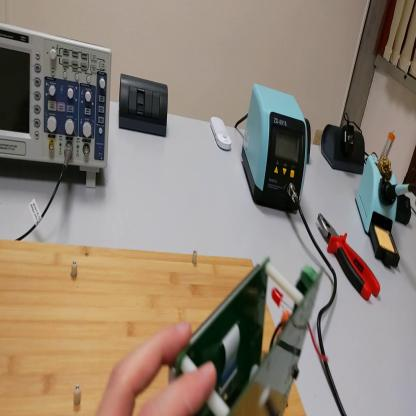electric screwdriver battery: (396, 191, 412, 224)
hand: (95, 320, 217, 416)
low voltage board: (184, 267, 328, 416)
oscilloscope: (1, 26, 111, 191)
pliers: (318, 213, 383, 301)
socket: (321, 122, 366, 175), (305, 118, 311, 164)
welder base: (356, 154, 401, 270)
welder probe tip: (383, 178, 416, 209)
welder station: (241, 86, 310, 215)
working area: (1, 241, 306, 414)
